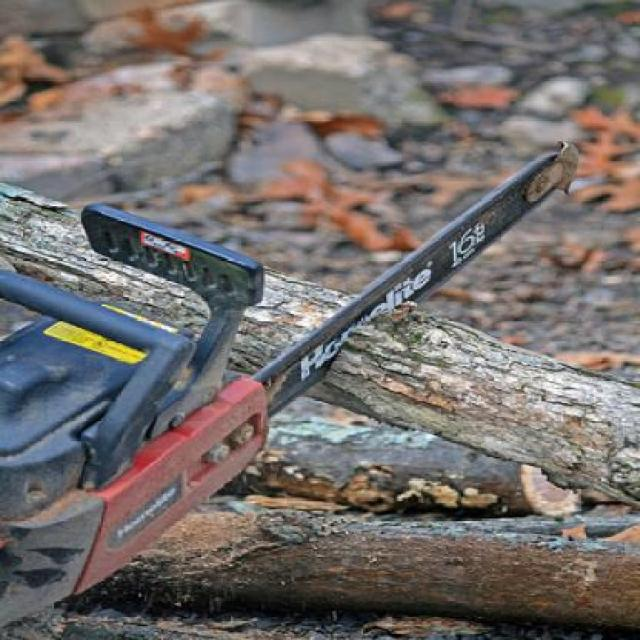Chainsaw: (1, 141, 577, 621)
